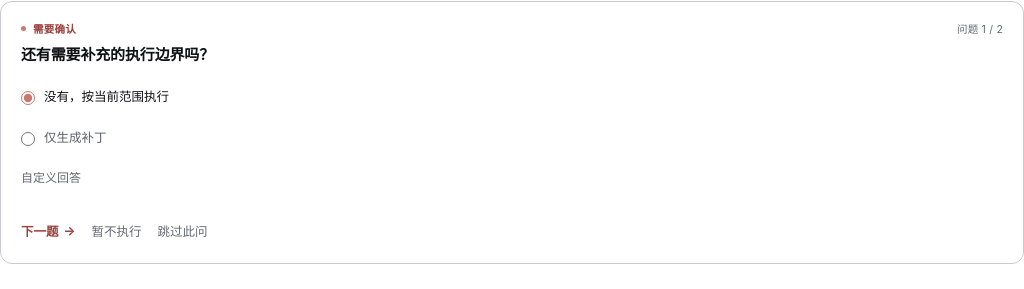
QuestionCard Quiet Tool 基准 › 多问题的自定义输入按问题独立，不会泄漏到下一页
This screenshot has width=1024, height=289.
What coordinates should you click on to do the following:
click the button "自定义回答"
I would click on:
 (51, 178)
Its box is x1=21 y1=156 x2=81 y2=200.
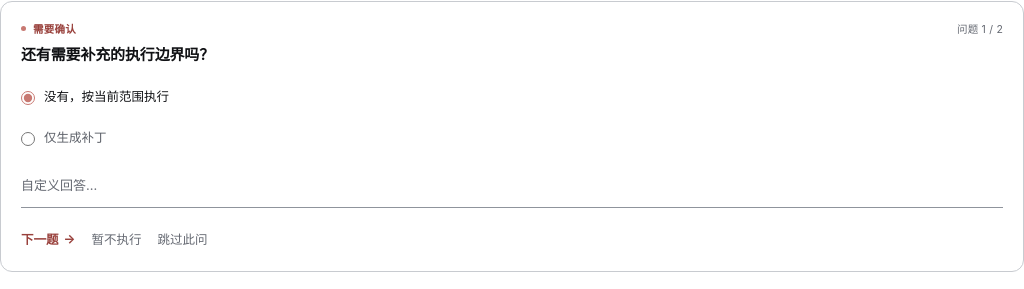
Now the field named "还有需要补充" is shown, box x1=21 y1=164 x2=1003 y2=208
What coordinates should you click on to do the following:
click the button "下一题 →"
I would click on:
 (48, 238)
Its box is x1=21 y1=222 x2=76 y2=254.
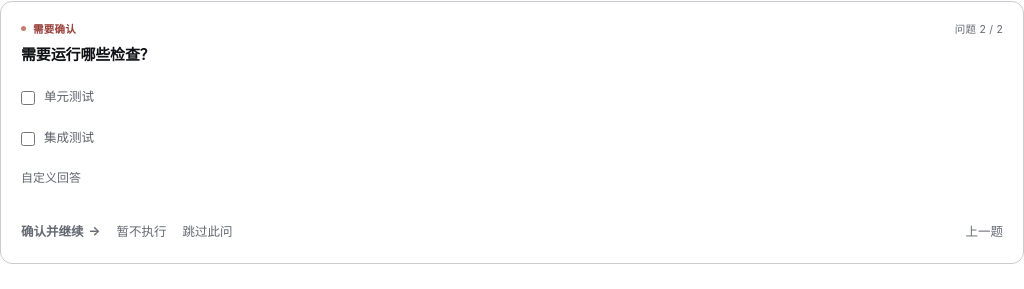
Now the button "自定义回答" is shown, box x1=21 y1=156 x2=81 y2=200
